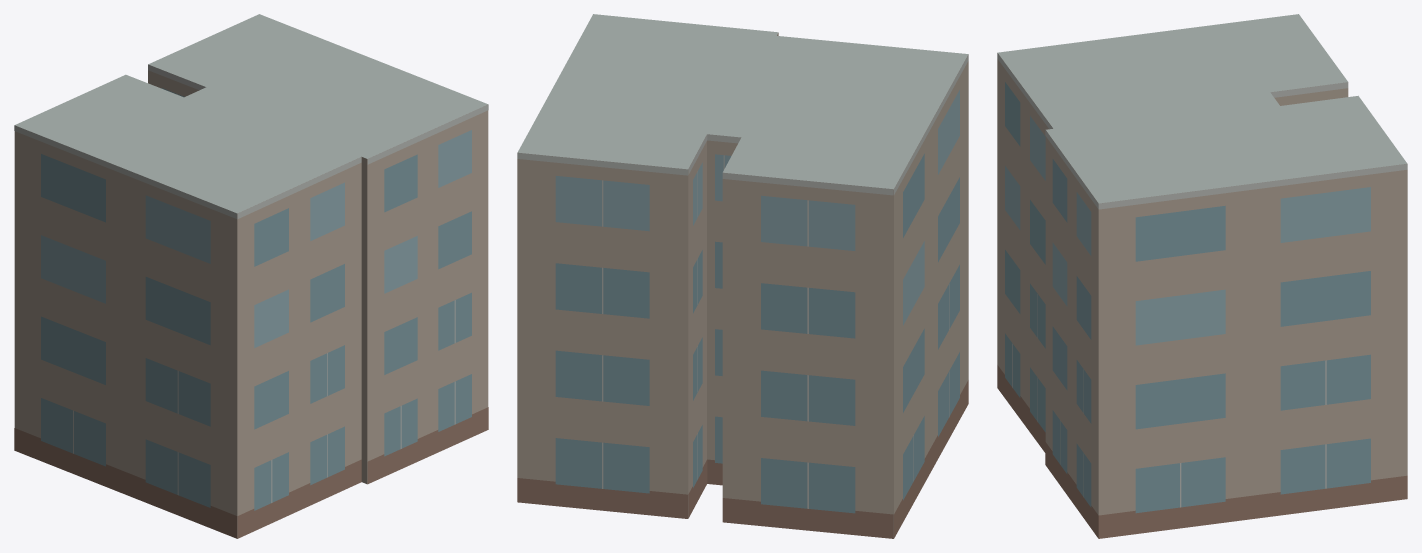
Rendered from survey-upis-32863161.glb.
3 renders of one model, left to right at view 1: azimuth 30°, elevation 25°; view 2: azimuth 150°, elevation 25°; view 3: azimuth 270°, elevation 25°, orthographic. The views are drawn at different scales.
Parts seen in each view (by area): view 1: survey-upis-32863161.tmp; view 2: survey-upis-32863161.tmp; view 3: survey-upis-32863161.tmp.
Boxes of the visible parts, <box> form: survey-upis-32863161.tmp: <box>14,14,488,538</box>; survey-upis-32863161.tmp: <box>517,14,968,538</box>; survey-upis-32863161.tmp: <box>997,14,1407,538</box>.
Bounding box in the file's own units: 16.5 × 13.6 × 15.08.
